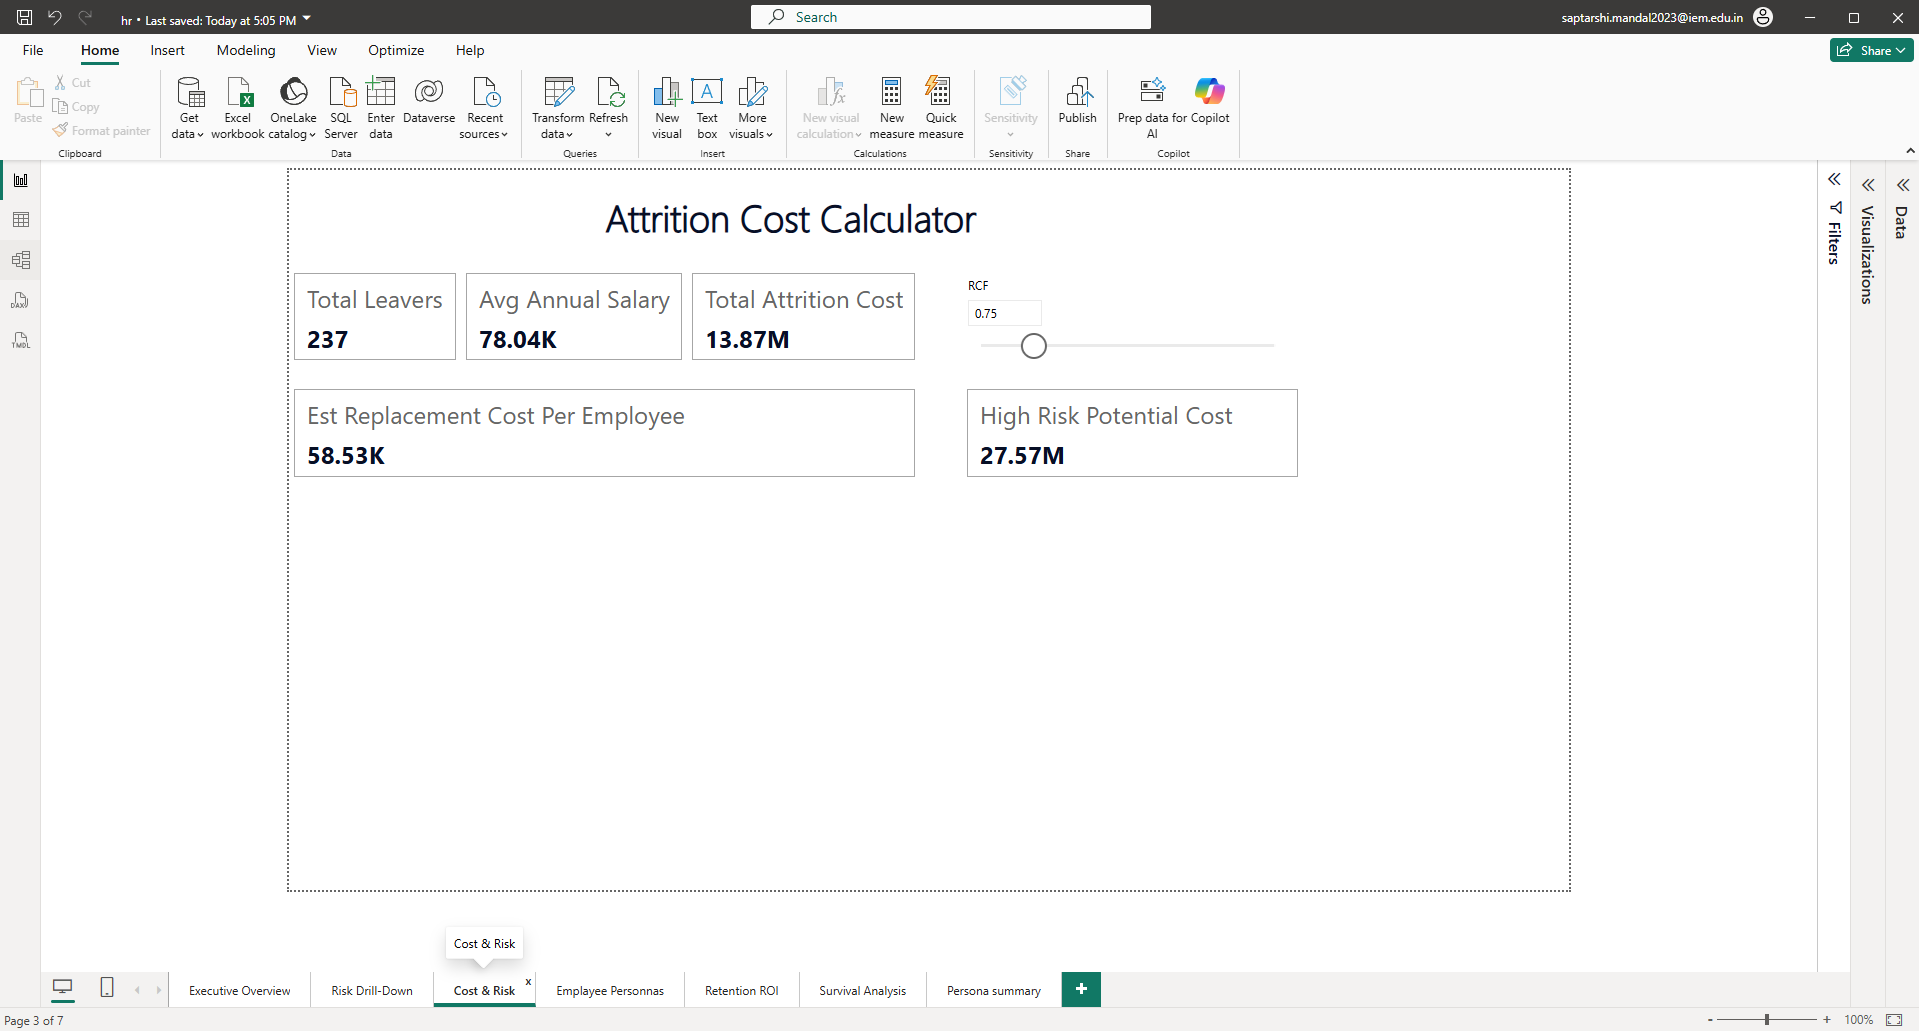

Layout of this report page (visuals, bound fields, positions):
{"tool":"powerbi","page":{"name":"Cost & Risk","canvas":[1280,720],"ordinal":2},"visuals":[{"type":"cardVisual","fields":{"Data":["HR_Attrition_PowerBI_Ready.Total Leavers"]},"box":[0,97.5,171.7,97.5],"z":0},{"type":"slicer","fields":{"Values":["RCF.RCF"]},"box":[665.8,101.7,341.7,93.3],"z":1000},{"type":"cardVisual","fields":{"Data":["HR_Attrition_PowerBI_Ready.Avg Annual Salary"]},"box":[171.7,97.5,225.8,97.5],"z":2000},{"type":"cardVisual","fields":{"Data":["HR_Attrition_PowerBI_Ready.Est Replacement Cost Per Employee"]},"box":[0,214.2,630.8,97.5],"z":3000},{"type":"cardVisual","title":"Attrition Cost Calculator","fields":{"Data":["HR_Attrition_PowerBI_Ready.High Risk Potential Cost"]},"box":[672.5,214.2,341.7,97.5],"z":4000},{"type":"textbox","box":[0,16.7,1014.2,65.8],"z":5000},{"type":"cardVisual","fields":{"Data":["HR_Attrition_PowerBI_Ready.Total Attrition Cost"]},"box":[397.5,97.5,233.3,97.5],"z":6000}]}

Visuals, with their boxes on the page's 1280x720 design canvas (x1, y1, x2, y2). These are canvas units, not pixel positions in the 1919x1031 screenshot, which may show the page scaled, cropped or inside an application window:
cardVisual - HR_Attrition_PowerBI_Ready.Total Leavers: (0,98,172,195)
slicer - RCF.RCF: (666,102,1008,195)
cardVisual - HR_Attrition_PowerBI_Ready.Avg Annual Salary: (172,98,398,195)
cardVisual - HR_Attrition_PowerBI_Ready.Est Replacement Cost Per Employee: (0,214,631,312)
"Attrition Cost Calculator" cardVisual: (672,214,1014,312)
textbox: (0,17,1014,82)
cardVisual - HR_Attrition_PowerBI_Ready.Total Attrition Cost: (398,98,631,195)
